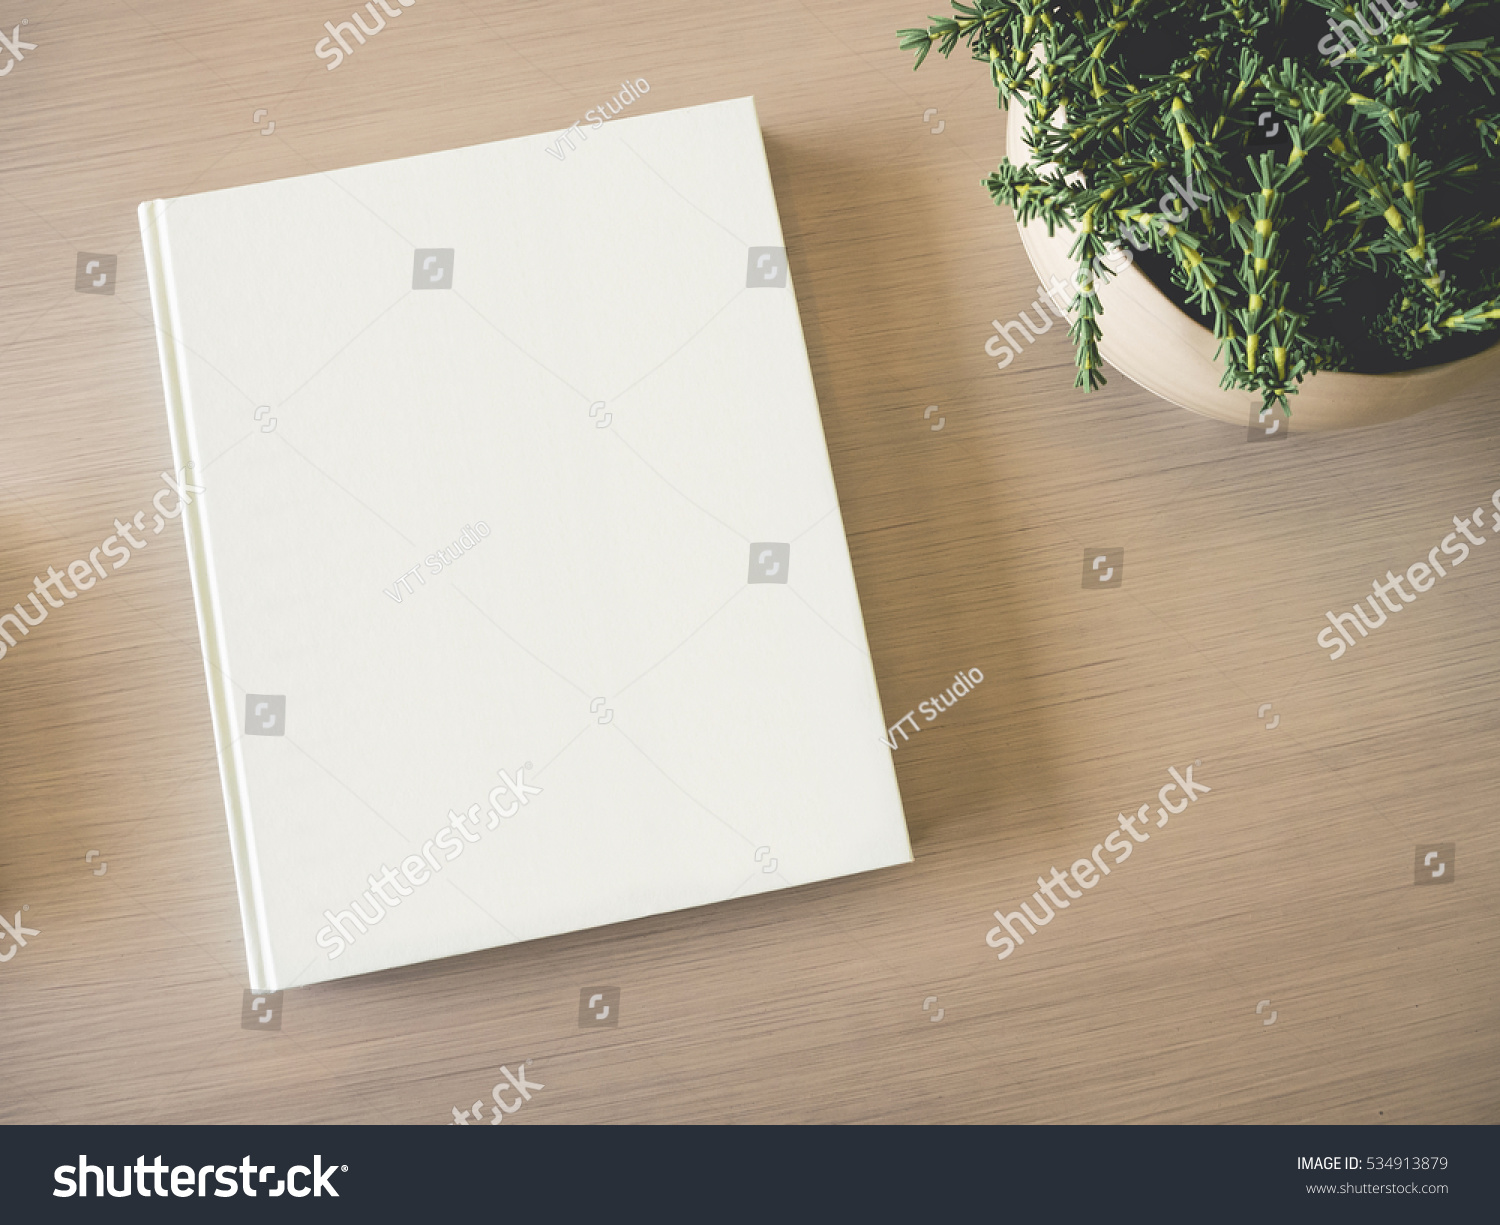book: (118, 146, 1018, 1064)
